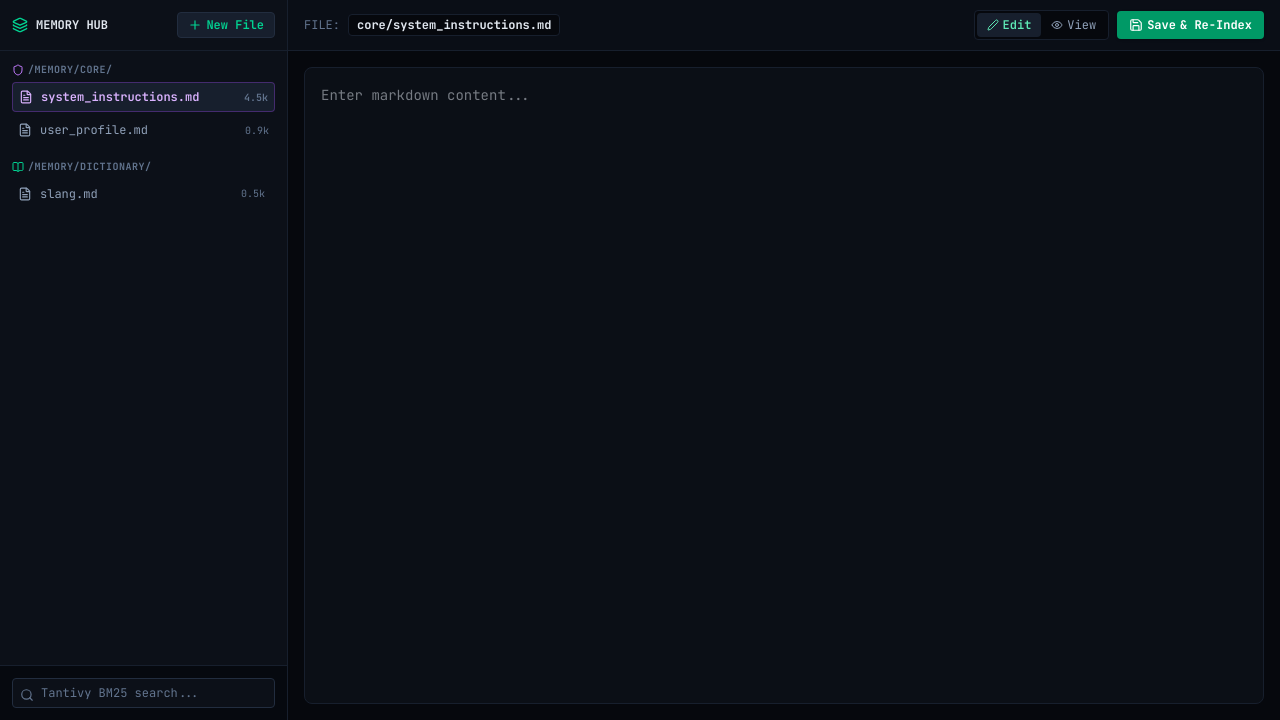
Test: MemoryHub Responsive Mobile UI Tests › automatically transitions to editor when a file row is tapped
The width and height of the screenshot is (1280, 720).
Click on user_profile.md row
Click the text "user_profile.md": (94, 130) [40,122,148,138]
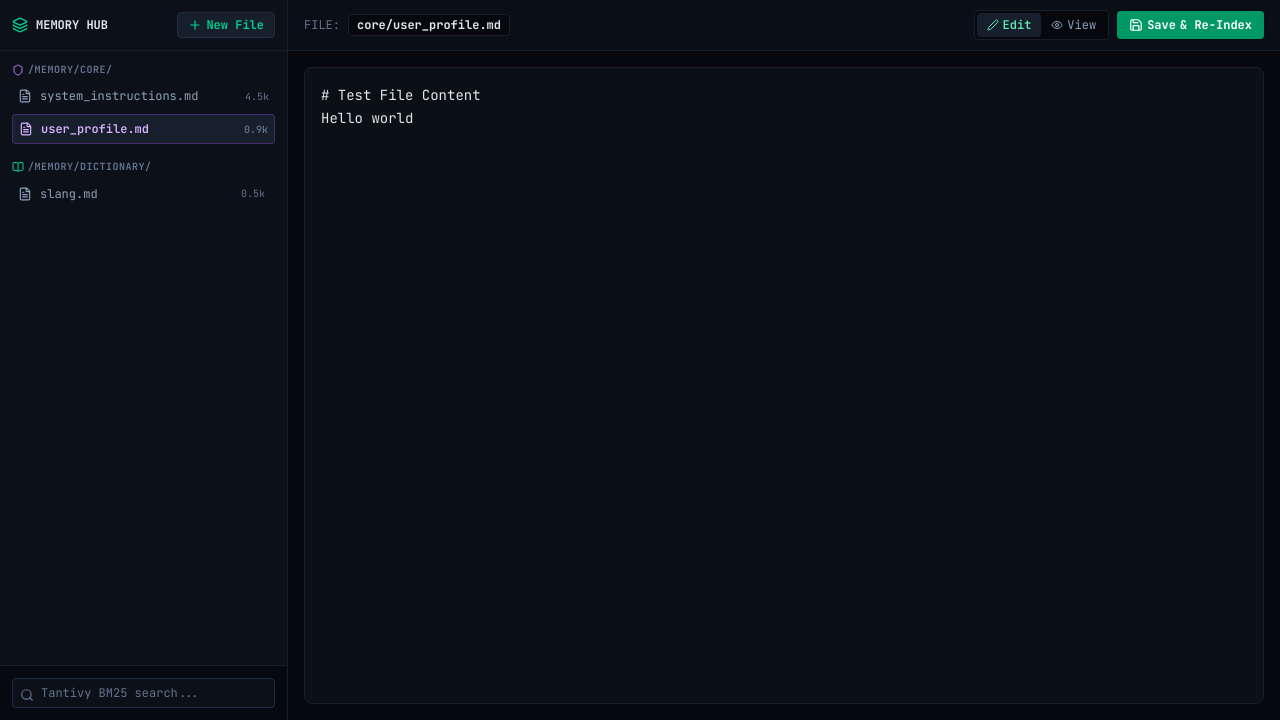
Expected: the text "core/user_profile.md" is shown, [348,14,510,36]
